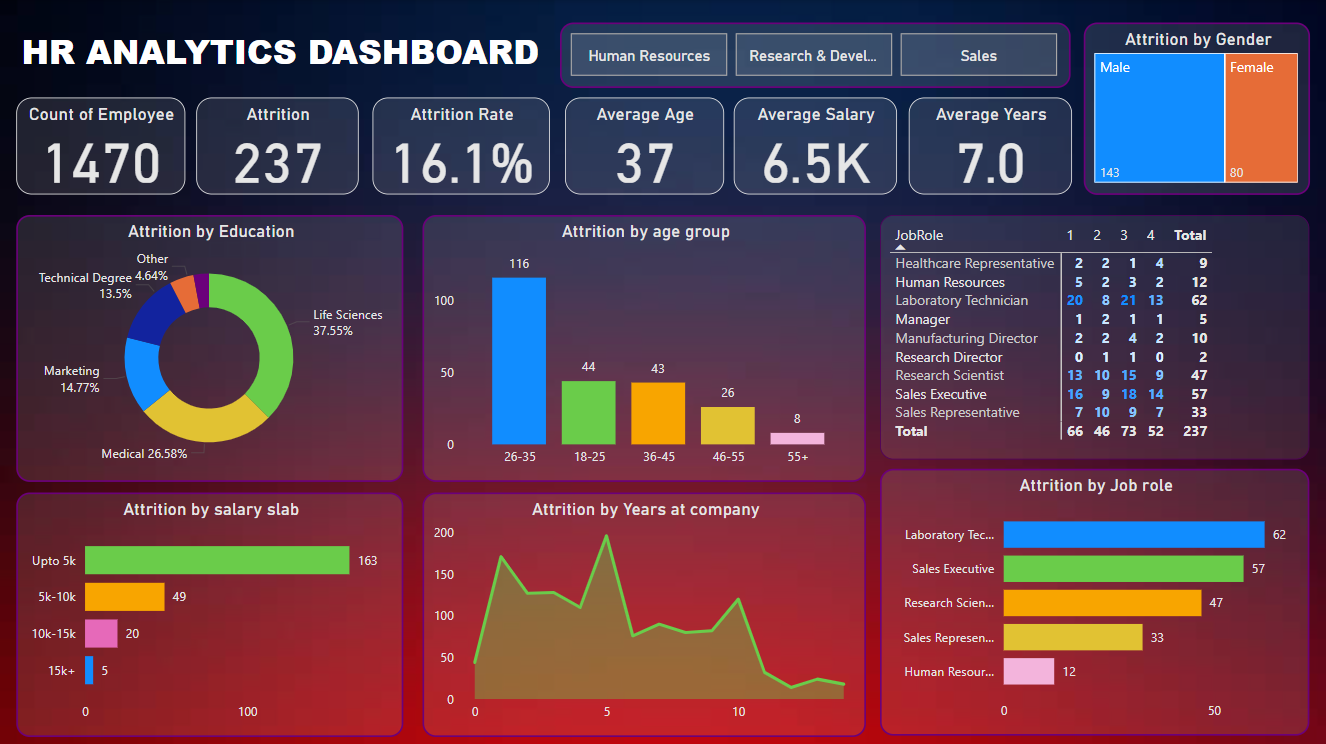

What the dashboard file says about the page in this screenshot:
{"tool":"powerbi","page":{"name":"HR_Analytics_report","canvas":[1280,720],"ordinal":0},"visuals":[{"type":"card","title":"Count of Employee","fields":{"Values":["CountNonNull(HR_Analytics.EmpID)"]},"box":[15.1,94.7,163.3,93.3],"z":0},{"type":"card","title":"Attrition","fields":{"Values":["Sum(HR_Analytics.AttritionCount)"]},"box":[189.4,94.7,156.4,93.3],"z":1000},{"type":"card","title":"Attrition Rate","fields":{"Values":["HR_Analytics.AttritionRate"]},"box":[359.5,94.7,171.5,93.3],"z":2000},{"type":"card","title":"Average Age","fields":{"Values":["Avg(HR_Analytics.Age)"]},"box":[544.8,94.7,153.7,93.3],"z":3000},{"type":"card","title":"Average Salary","fields":{"Values":["Avg(HR_Analytics.MonthlyIncome)"]},"box":[708.1,94.7,157.8,93.3],"z":4000},{"type":"card","title":"Average Years","fields":{"Values":["Avg(HR_Analytics.YearsAtCompany)"]},"box":[876.8,94.7,157.8,93.3],"z":5000},{"type":"donutChart","title":"Attrition by Education","fields":{"Category":["HR_Analytics.EducationField"],"Y":["Sum(HR_Analytics.AttritionCount)"]},"box":[15.1,207.2,373.2,258],"z":6000},{"type":"clusteredColumnChart","title":"Attrition by age group","fields":{"Y":["Sum(HR_Analytics.AttritionCount)"],"Category":["HR_Analytics.AgeGroup"]},"box":[407.5,207.2,428.1,258],"z":7000},{"type":"clusteredBarChart","title":"Attrition by salary slab","fields":{"Y":["Sum(HR_Analytics.AttritionCount)"],"Category":["HR_Analytics.SalarySlab"]},"box":[15.1,474.8,373.2,236],"z":8000},{"type":"areaChart","title":"Attrition by Years at company ","fields":{"Category":["HR_Analytics.YearsAtCompany"],"Y":["CountNonNull(HR_Analytics.Attrition)"]},"box":[407.5,474.8,428.1,236],"z":9000},{"type":"clusteredBarChart","title":"Attrition by Job role","fields":{"Category":["HR_Analytics.JobRole"],"Y":["Sum(HR_Analytics.AttritionCount)"]},"box":[849.4,452.8,414.4,258],"z":10000},{"type":"pivotTable","fields":{"Rows":["HR_Analytics.JobRole"],"Columns":["HR_Analytics.JobSatisfaction"],"Values":["Sum(HR_Analytics.AttritionCount)"]},"box":[849.4,207.2,414.4,236],"z":11000},{"type":"treemap","title":"Attrition by Gender","fields":{"Group":["HR_Analytics.Gender"],"Values":["Sum(HR_Analytics.AttritionCount)"]},"box":[1045.6,22,218.2,166],"z":12000},{"type":"advancedSlicerVisual","fields":{"Values":["HR_Analytics.Department"]},"box":[540.7,22,492.6,63.1],"z":13000},{"type":"textbox","box":[15.7,21.7,515.2,56.7],"z":14000}]}

Visuals, with their boxes in screenshot pixels (x1, y1, x2, y2), scaled from the page's 1280x720 canvas onto the 1326x744 screenshot:
"Count of Employee" card: 16, 98, 185, 194
"Attrition" card: 196, 98, 358, 194
"Attrition Rate" card: 372, 98, 550, 194
"Average Age" card: 564, 98, 724, 194
"Average Salary" card: 734, 98, 897, 194
"Average Years" card: 908, 98, 1072, 194
"Attrition by Education" donutChart: 16, 214, 402, 481
"Attrition by age group" clusteredColumnChart: 422, 214, 866, 481
"Attrition by salary slab" clusteredBarChart: 16, 491, 402, 734
"Attrition by Years at company " areaChart: 422, 491, 866, 734
"Attrition by Job role" clusteredBarChart: 880, 468, 1309, 734
pivotTable - HR_Analytics.JobRole x HR_Analytics.JobSatisfaction: 880, 214, 1309, 458
"Attrition by Gender" treemap: 1083, 23, 1309, 194
advancedSlicerVisual - HR_Analytics.Department: 560, 23, 1070, 88
textbox: 16, 22, 550, 81
